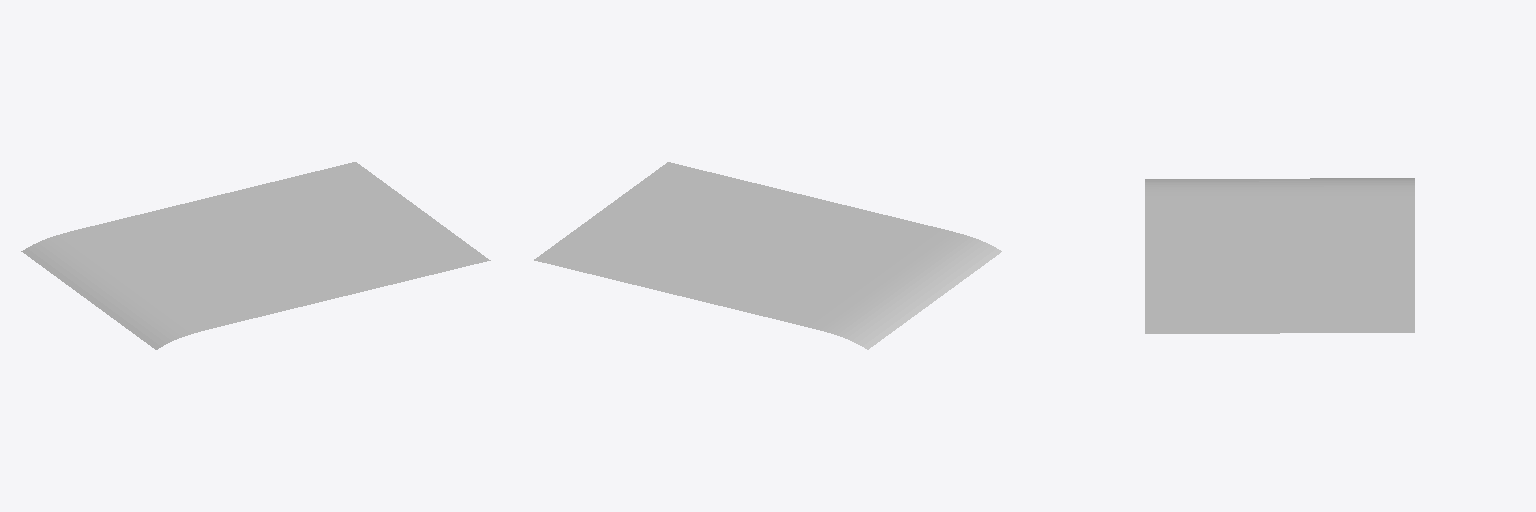
Rendered from CurvePaper_000070.obj.
3 renders of one model, left to right at view 1: azimuth 30°, elevation 25°; view 2: azimuth 150°, elevation 25°; view 3: azimuth 270°, elevation 25°, orthographic.
Parts seen in each view (by area): view 1: Plane; view 2: Plane; view 3: Plane.
Boxes of the visible parts, x1=… form: Plane: x1=21, y1=162, x2=490, y2=349; Plane: x1=534, y1=162, x2=1001, y2=349; Plane: x1=1145, y1=178, x2=1414, y2=333.
Bounding box in the file's own units: 3.24 × 0.0784 × 2.26.